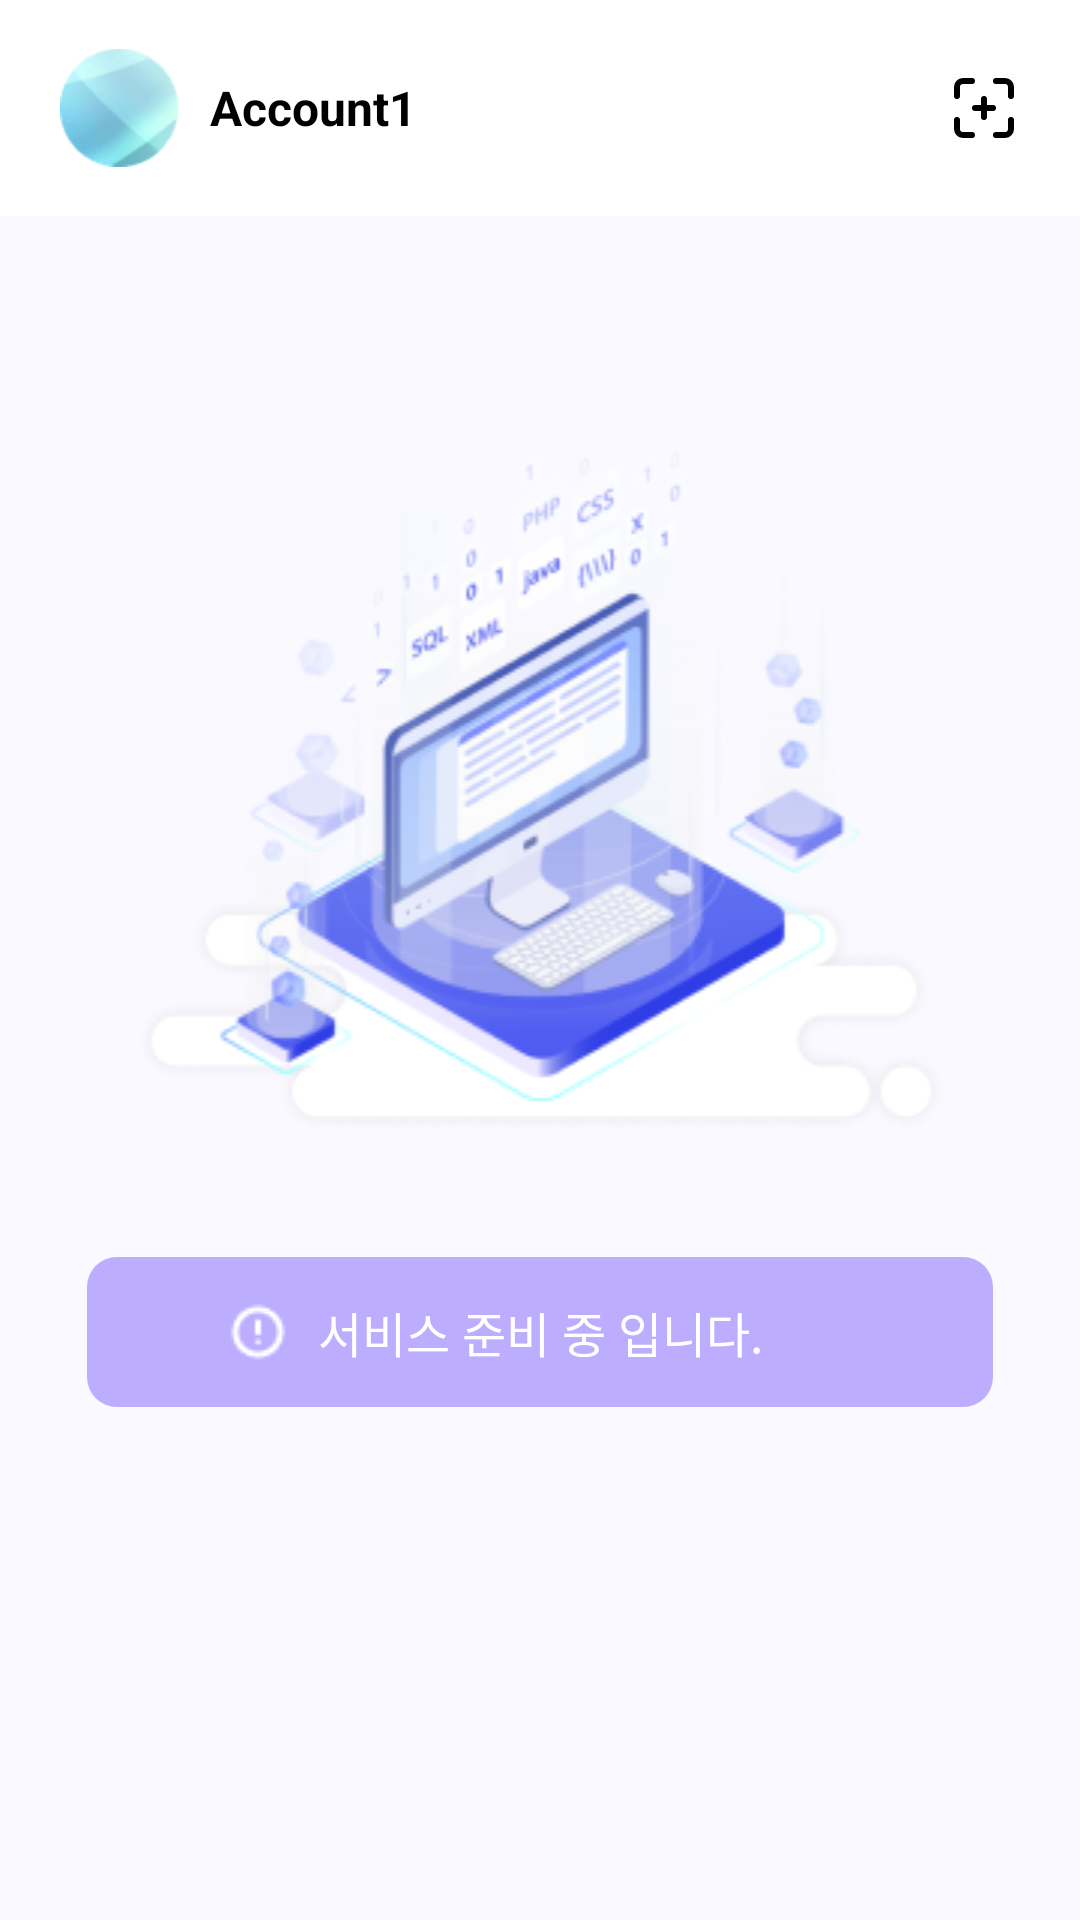

Icons on this 1080*1920 Android screen, each with the point to tap as point (x, y):
address recognition camera: point (984, 108)
notice warning: point (258, 1332)
